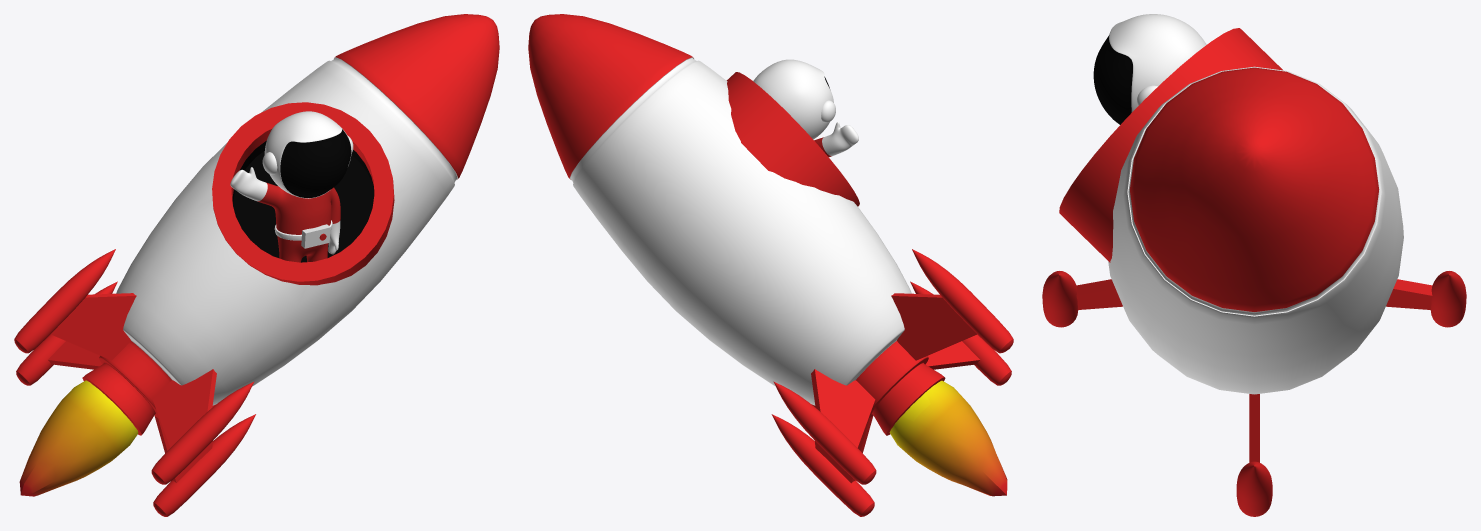
The model's file is rocket-with-astronaut.glb.
The picture shows the model from 3 angles, left to right: view 1: azimuth 30°, elevation 25°; view 2: azimuth 150°, elevation 25°; view 3: azimuth 270°, elevation 25°; orthographic projection. The views are drawn at different scales.
Parts seen in each view (by area): view 1: Circle.004, Circle.003, Icosphere, Roundcube.006, Circle.005, Circle.006, Plane, Plane.001, Roundcube.008, Roundcube.010; view 2: Circle.004, Icosphere, Circle.003, Circle.005, Circle.006, Plane, Plane.001, Roundcube.006, Roundcube.008; view 3: Circle.004, Circle.003, Roundcube.006, Circle.006, Plane.001, Circle.005, Plane.
Part boxes in pixels (<box>): Circle.004: <box>82,14,499,435</box>; Circle.003: <box>212,102,394,285</box>; Icosphere: <box>19,380,138,496</box>; Roundcube.006: <box>264,111,351,198</box>; Circle.005: <box>14,249,255,516</box>; Circle.006: <box>16,281,254,484</box>; Plane: <box>50,293,215,482</box>; Plane.001: <box>48,341,216,447</box>; Roundcube.008: <box>230,167,340,254</box>; Roundcube.010: <box>277,236,328,262</box>; Circle.004: <box>528,14,945,435</box>; Icosphere: <box>889,380,1007,496</box>; Circle.003: <box>726,72,859,206</box>; Circle.005: <box>771,249,1013,516</box>; Circle.006: <box>773,281,1011,484</box>; Plane: <box>812,293,977,483</box>; Plane.001: <box>811,341,979,447</box>; Roundcube.006: <box>753,59,833,139</box>; Roundcube.008: <box>814,122,858,157</box>; Circle.004: <box>1108,66,1403,394</box>; Circle.003: <box>1059,28,1282,262</box>; Roundcube.006: <box>1093,14,1206,124</box>; Circle.006: <box>1042,271,1466,327</box>; Plane.001: <box>1076,279,1432,309</box>; Circle.005: <box>1236,461,1272,516</box>; Plane: <box>1249,394,1259,462</box>.
Bounding box in the file's own units: 2.68 × 2.28 × 1.44.
7 materials, 1 textured.
